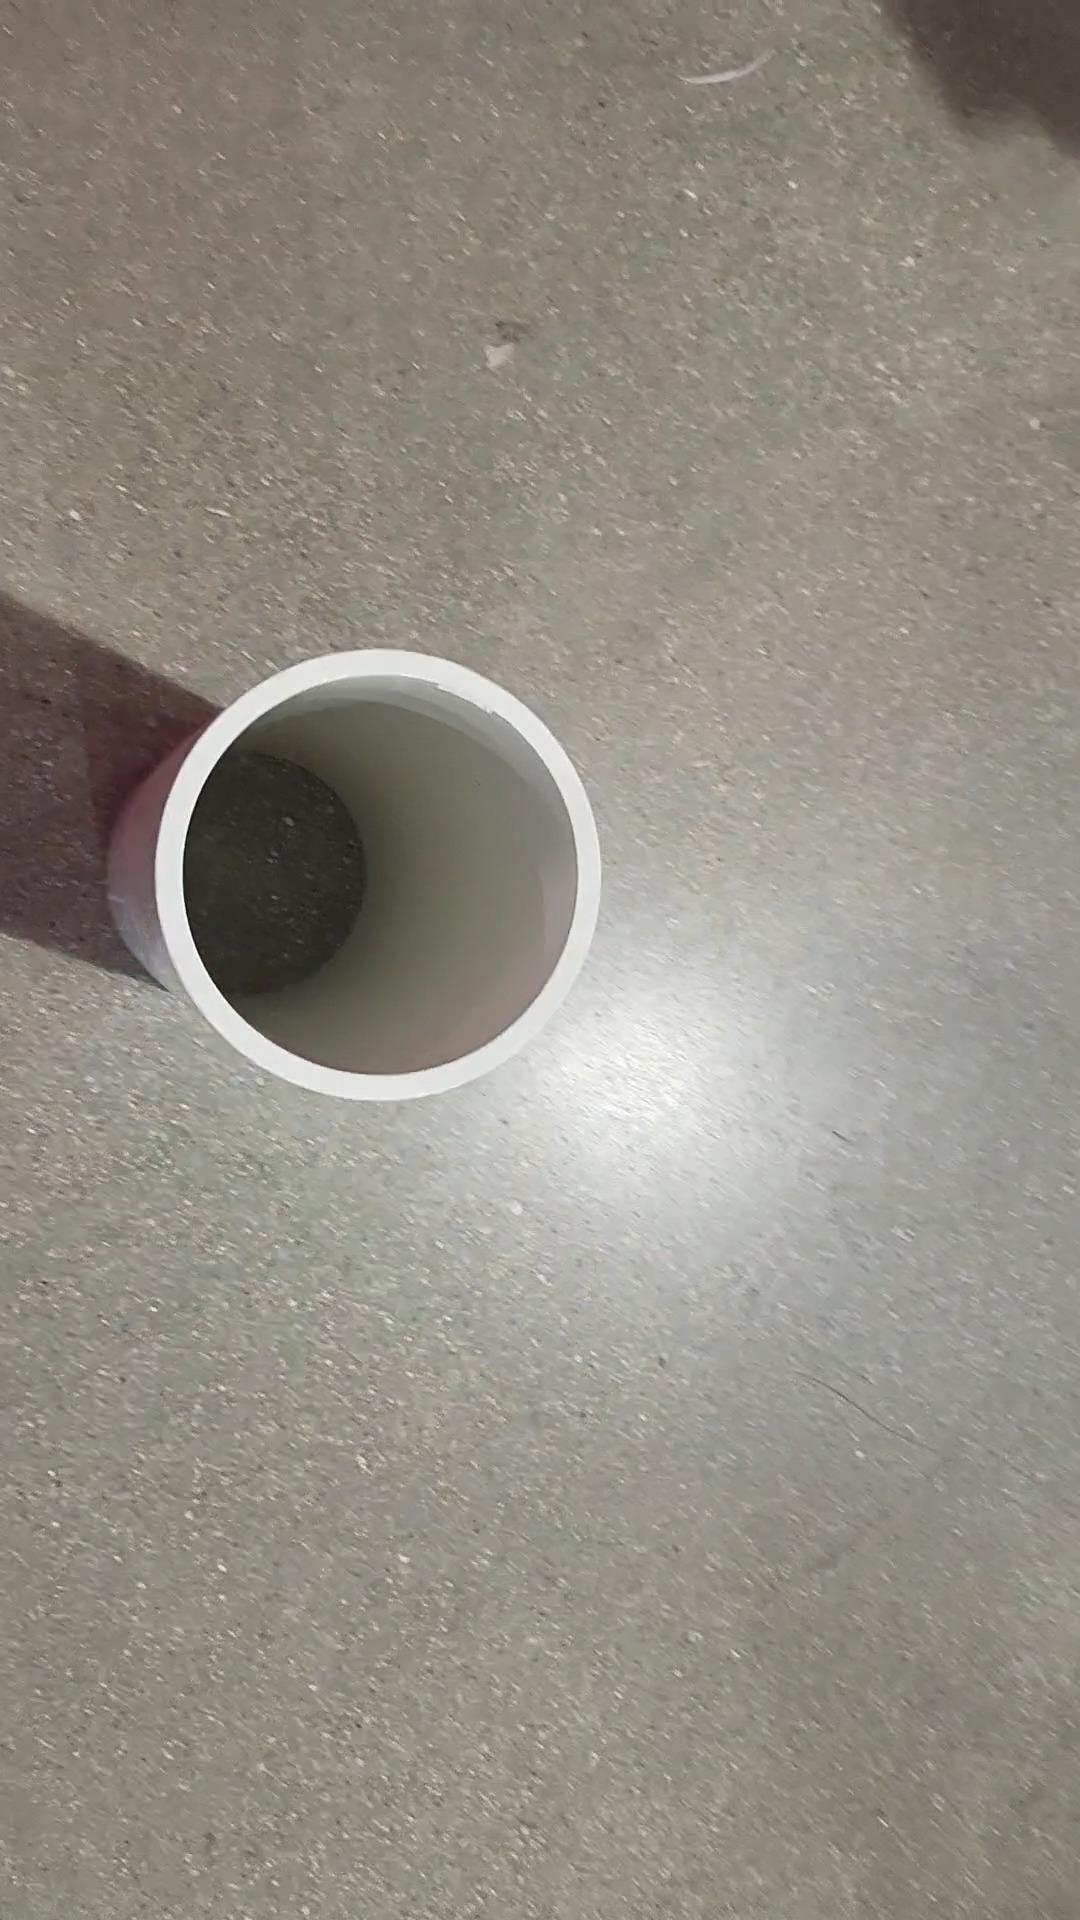coral: (107, 630, 607, 1100)
